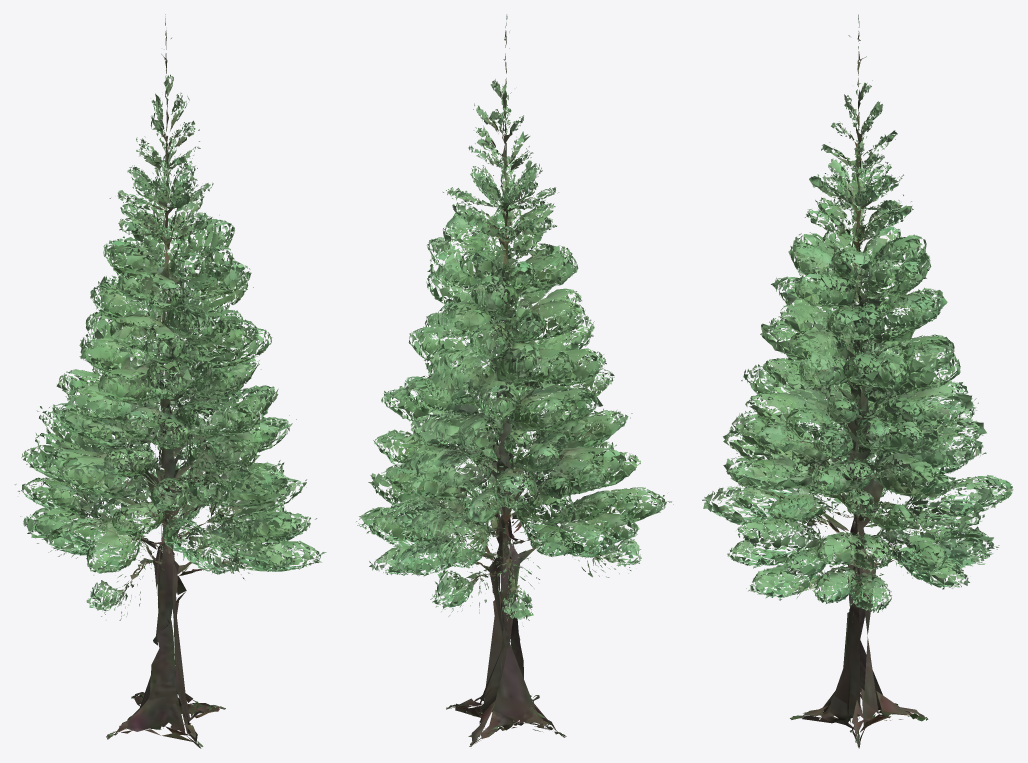
The model's file is fir_tree_short.glb.
3 renders of one model, left to right at view 1: azimuth 30°, elevation 25°; view 2: azimuth 150°, elevation 25°; view 3: azimuth 270°, elevation 25°, orthographic.
Visible parts, largest first — view 1: Mesh_0; view 2: Mesh_0; view 3: Mesh_0.
Boxes of the visible parts, <box> form: Mesh_0: <box>14,14,326,748</box>; Mesh_0: <box>356,14,673,746</box>; Mesh_0: <box>702,14,1013,748</box>.
Bounding box in the file's own units: 0.3852 × 0.9991 × 0.3998.
Materials: 1 (1 with a texture image).
